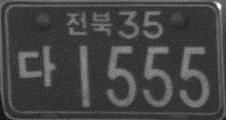1: (76, 42, 93, 109)
3: (117, 10, 139, 40)
5: (104, 45, 137, 108), (142, 44, 174, 108), (178, 45, 210, 109), (140, 10, 164, 39)
다: (16, 43, 56, 89)
전북_O: (65, 9, 113, 37)
